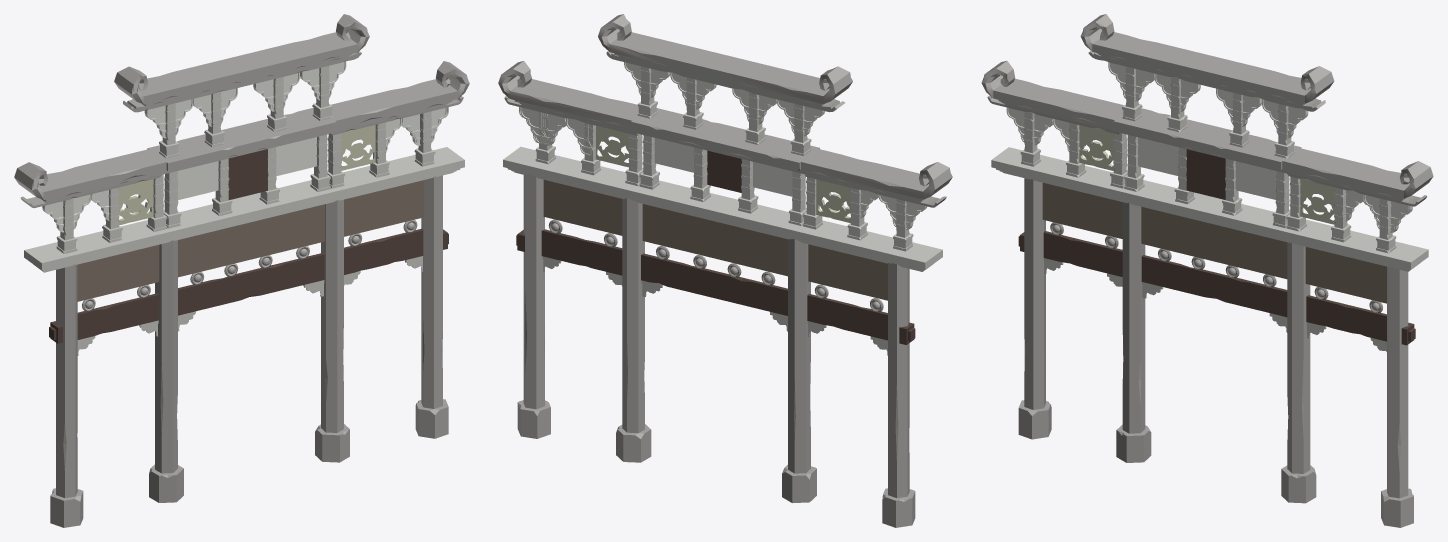
Rendered from SM_Plaque_01.fbx.
The picture shows the model from 3 angles, left to right: view 1: azimuth 30°, elevation 25°; view 2: azimuth 150°, elevation 25°; view 3: azimuth 330°, elevation 25°; orthographic projection.
Visible parts, largest first — view 1: Plane.032; view 2: Plane.032; view 3: Plane.032.
Boxes of the visible parts, left/top/right/bottom form: Plane.032: left=14, top=14, right=469, bottom=527; Plane.032: left=498, top=14, right=952, bottom=527; Plane.032: left=981, top=14, right=1433, bottom=527.
Size of the model in its own units: 1207 by 1144 by 98.38.
